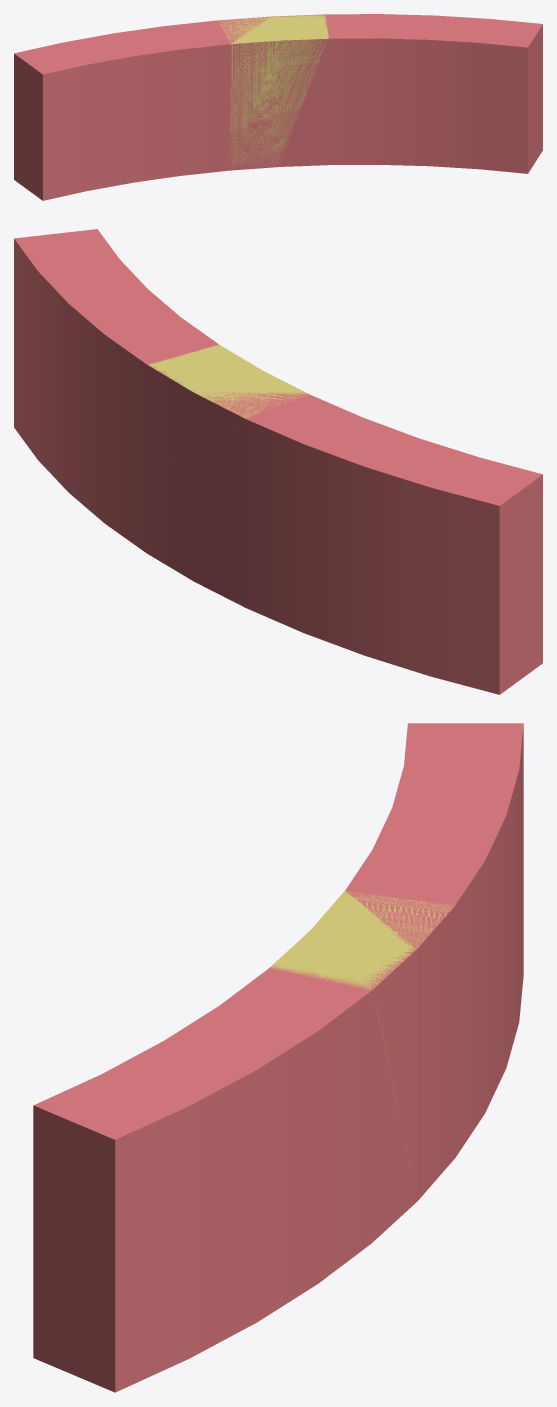
Rendered from block4.fbx.
3 renders of one model, top to bottom at view 1: azimuth 30°, elevation 25°; view 2: azimuth 150°, elevation 25°; view 3: azimuth 270°, elevation 25°, orthographic. The views are drawn at different scales.
Visible parts, largest first — view 1: red_block, yellow_block; view 2: red_block, yellow_block; view 3: red_block, yellow_block.
Part boxes in pixels (left/top/right/bottom): red_block: left=14, top=14, right=542, bottom=200; yellow_block: left=218, top=14, right=328, bottom=166; red_block: left=14, top=229, right=542, bottom=694; yellow_block: left=147, top=344, right=309, bottom=560; red_block: left=33, top=723, right=523, bottom=1392; yellow_block: left=270, top=891, right=454, bottom=1176.
Bounding box in the file's own units: 707 × 200 × 352.
